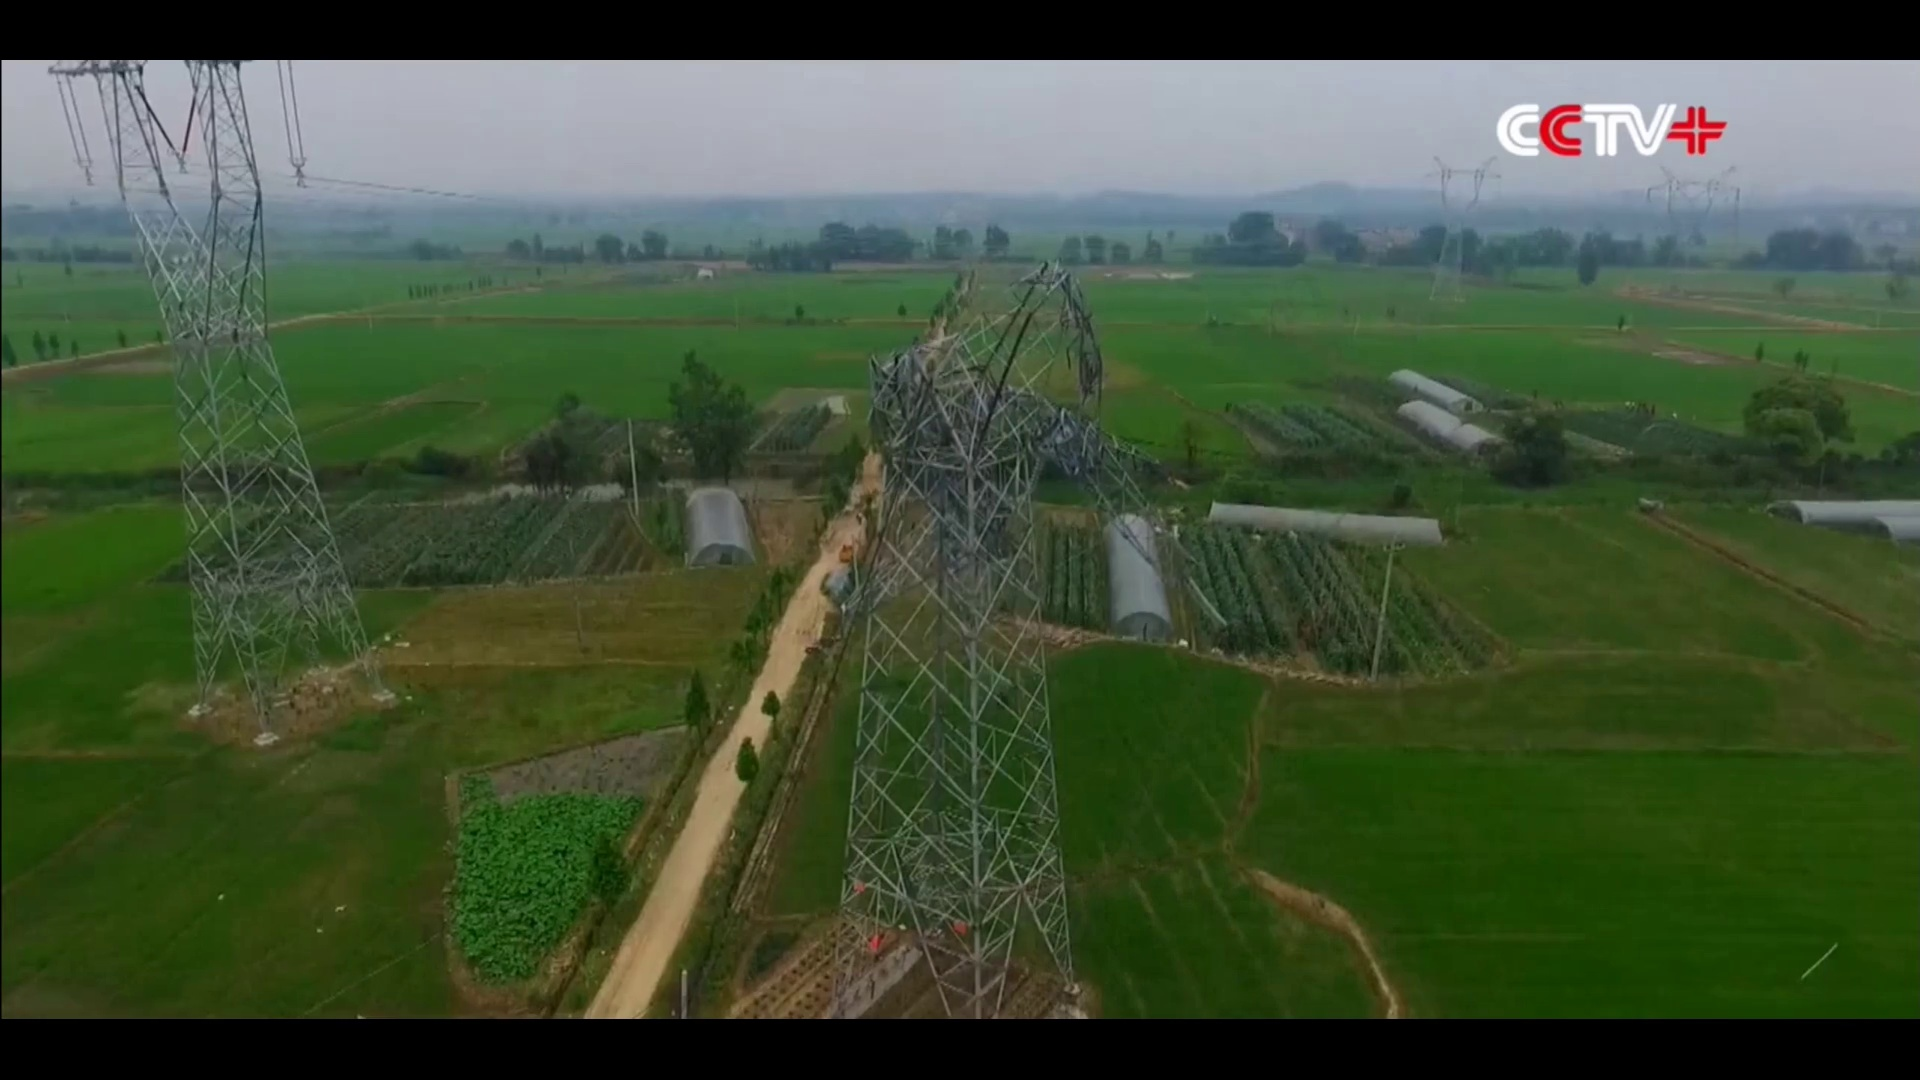tower_up: (767, 233, 1160, 1021), (40, 58, 425, 725)
